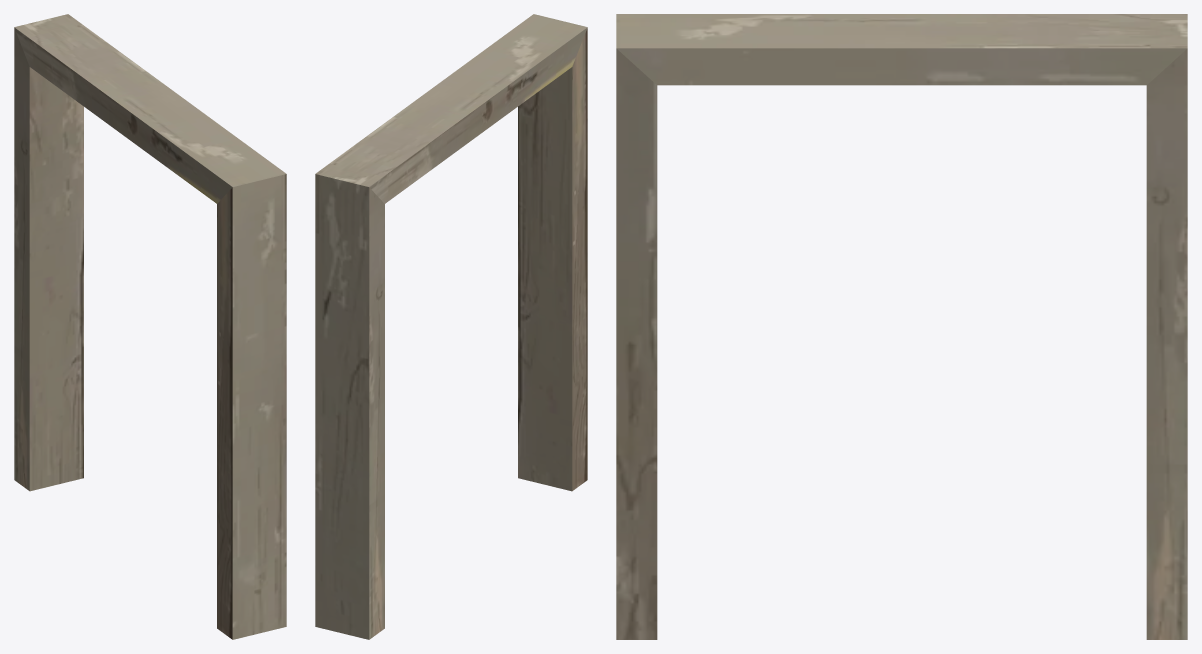
The picture shows the model from 3 angles, left to right: view 1: azimuth 30°, elevation 25°; view 2: azimuth 150°, elevation 25°; view 3: azimuth 270°, elevation 25°; orthographic projection. The views are drawn at different scales.
Visible parts, largest first — view 1: body0_model0_lod0_mesh0; view 2: body0_model0_lod0_mesh0; view 3: body0_model0_lod0_mesh0.
Part boxes in pixels (left/top/right/bottom): body0_model0_lod0_mesh0: left=14, top=14, right=286, bottom=639; body0_model0_lod0_mesh0: left=315, top=14, right=587, bottom=639; body0_model0_lod0_mesh0: left=616, top=14, right=1187, bottom=639.
Bounding box in the file's own units: 16 × 128 × 112.
1 material, 1 textured.
